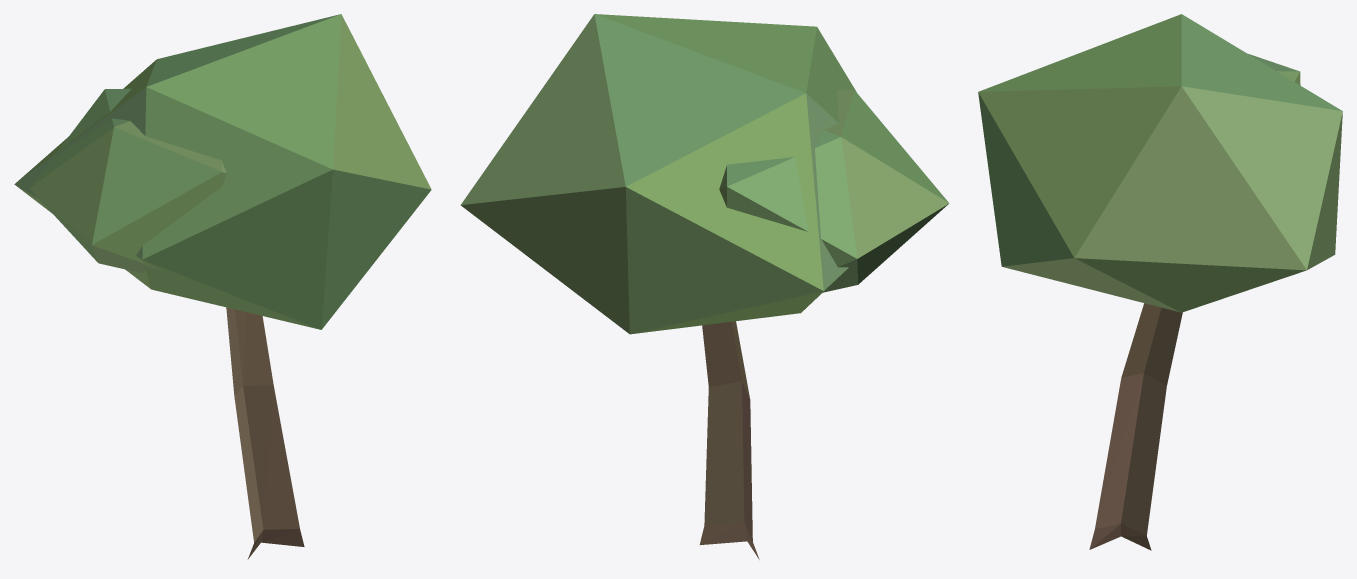
File: Tree_Broadleaf_01_Far.glb
The picture shows the model from 3 angles, left to right: view 1: azimuth 30°, elevation 25°; view 2: azimuth 150°, elevation 25°; view 3: azimuth 270°, elevation 25°; orthographic projection. The views are drawn at different scales.
Parts seen in each view (by area): view 1: Tree_Broadleaf_01_Far; view 2: Tree_Broadleaf_01_Far; view 3: Tree_Broadleaf_01_Far.
Boxes of the visible parts, bbox=[...] form: Tree_Broadleaf_01_Far: bbox=[14, 14, 431, 559]; Tree_Broadleaf_01_Far: bbox=[460, 14, 949, 559]; Tree_Broadleaf_01_Far: bbox=[978, 14, 1342, 550].
Size of the model in its own units: 6.35 by 8.55 by 5.52.
